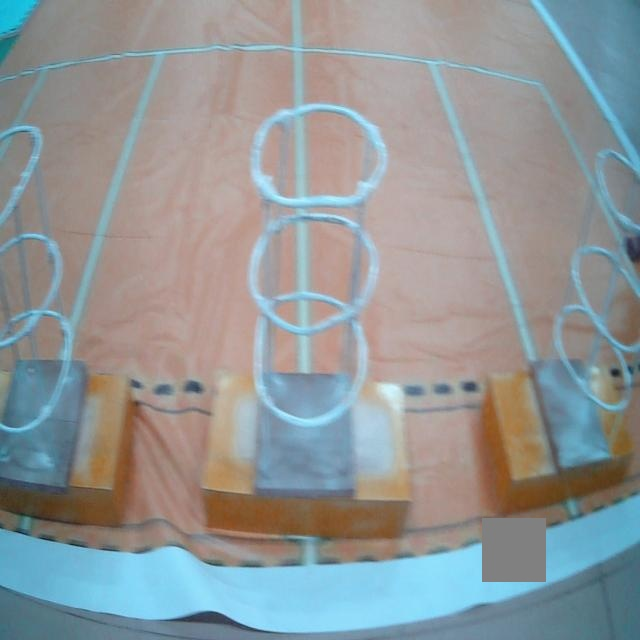silo: (248, 101, 384, 497), (541, 144, 640, 457), (0, 116, 82, 492)
